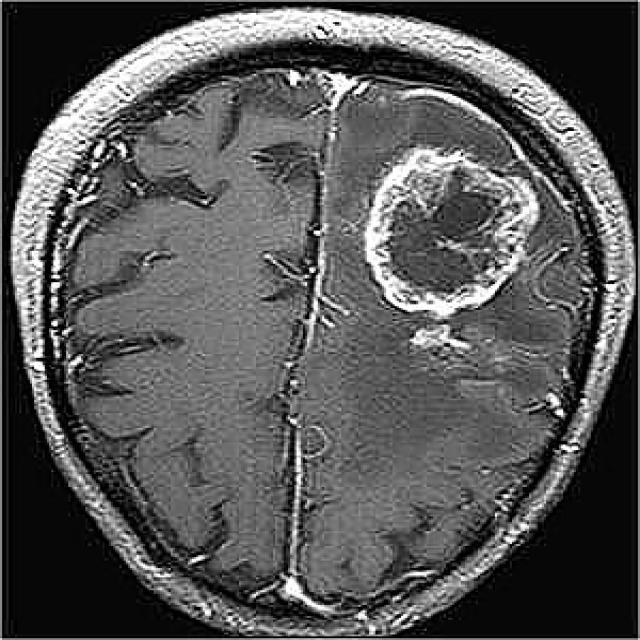Tumor-Cell: (360, 122, 542, 344)
